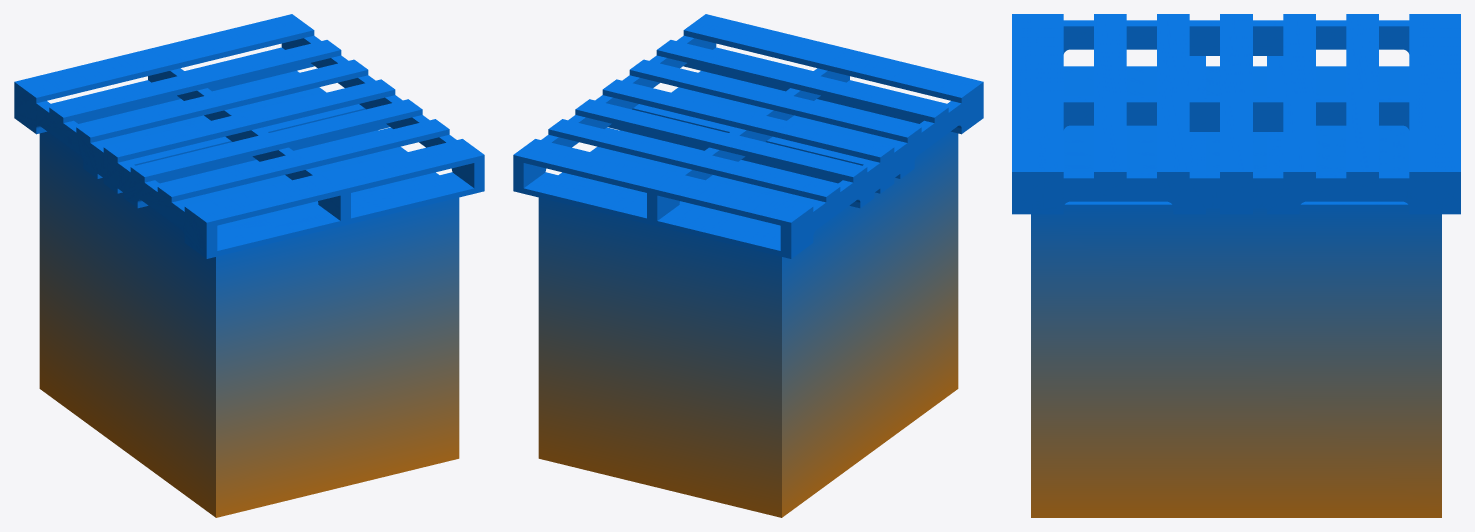
Rendered from crate.dae.
The picture shows the model from 3 angles, left to right: view 1: azimuth 30°, elevation 25°; view 2: azimuth 150°, elevation 25°; view 3: azimuth 270°, elevation 25°; orthographic projection. The views are drawn at different scales.
Visible parts, largest first — view 1: node; view 2: node; view 3: node.
Boxes of the visible parts, box(x1,y1,x2,y2) form: node: box(14, 14, 484, 517); node: box(513, 14, 983, 517); node: box(1012, 14, 1460, 517).
Size of the model in its own units: 1.02 by 1.07 by 1.22.
1 material, 1 textured.
